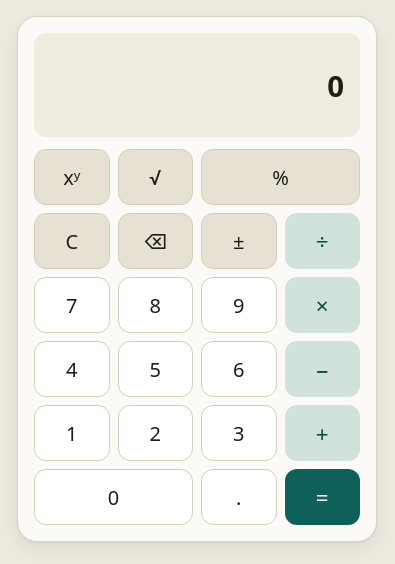
Test case: Calculator: basic flows › shows the pending operation on the secondary line
The width and height of the screenshot is (395, 564).
Click the button "2" at coordinates (155, 433), box [118,405,193,461]
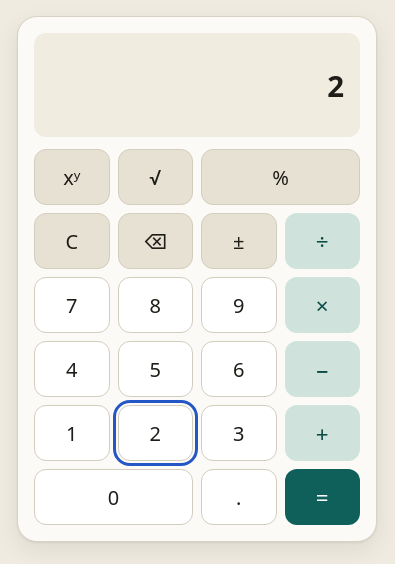
Click the button named "add" at coordinates (322, 433), box [284,405,360,461]
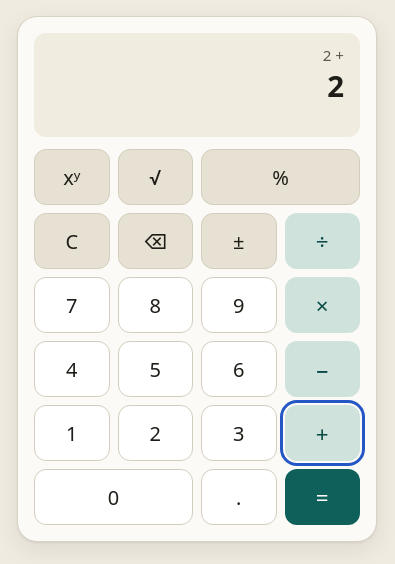
expect the text "2 +" is shown: met, box [323,45,344,65]
